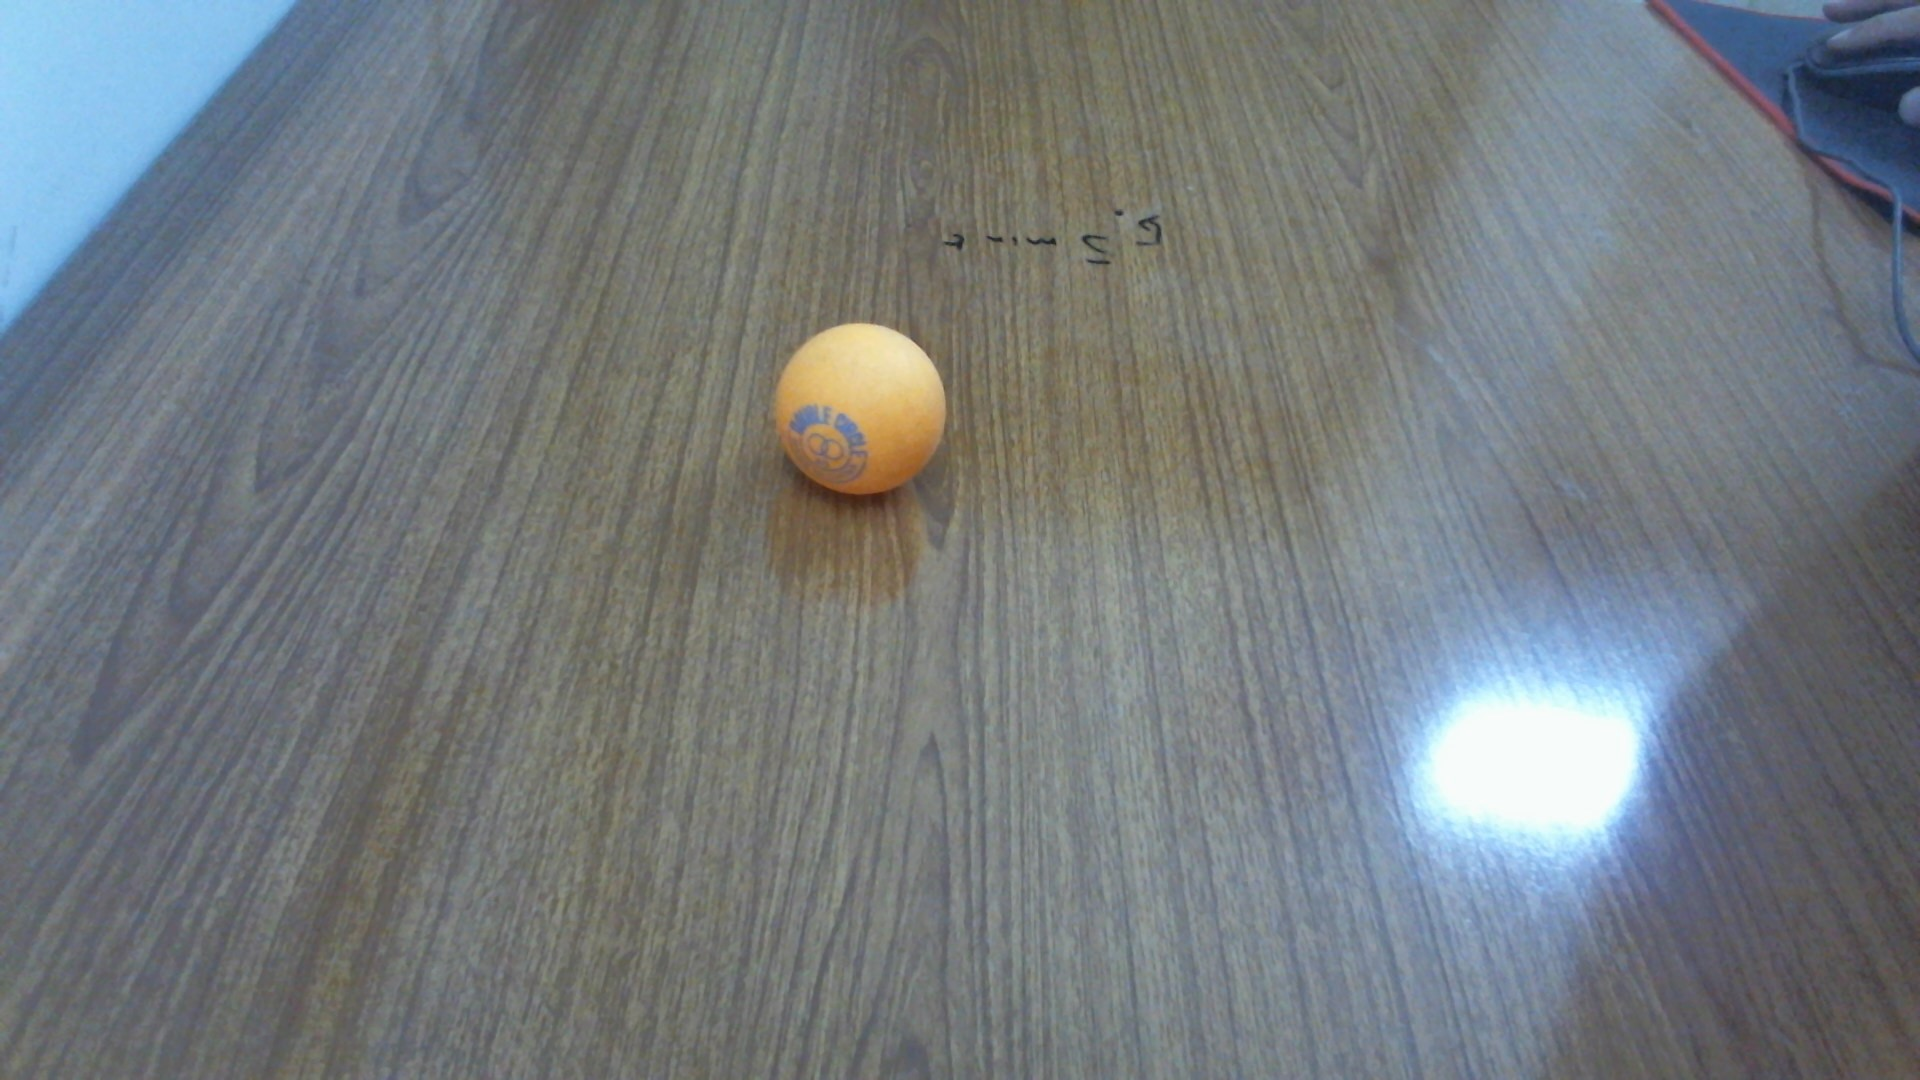ball: (766, 323, 949, 500)
